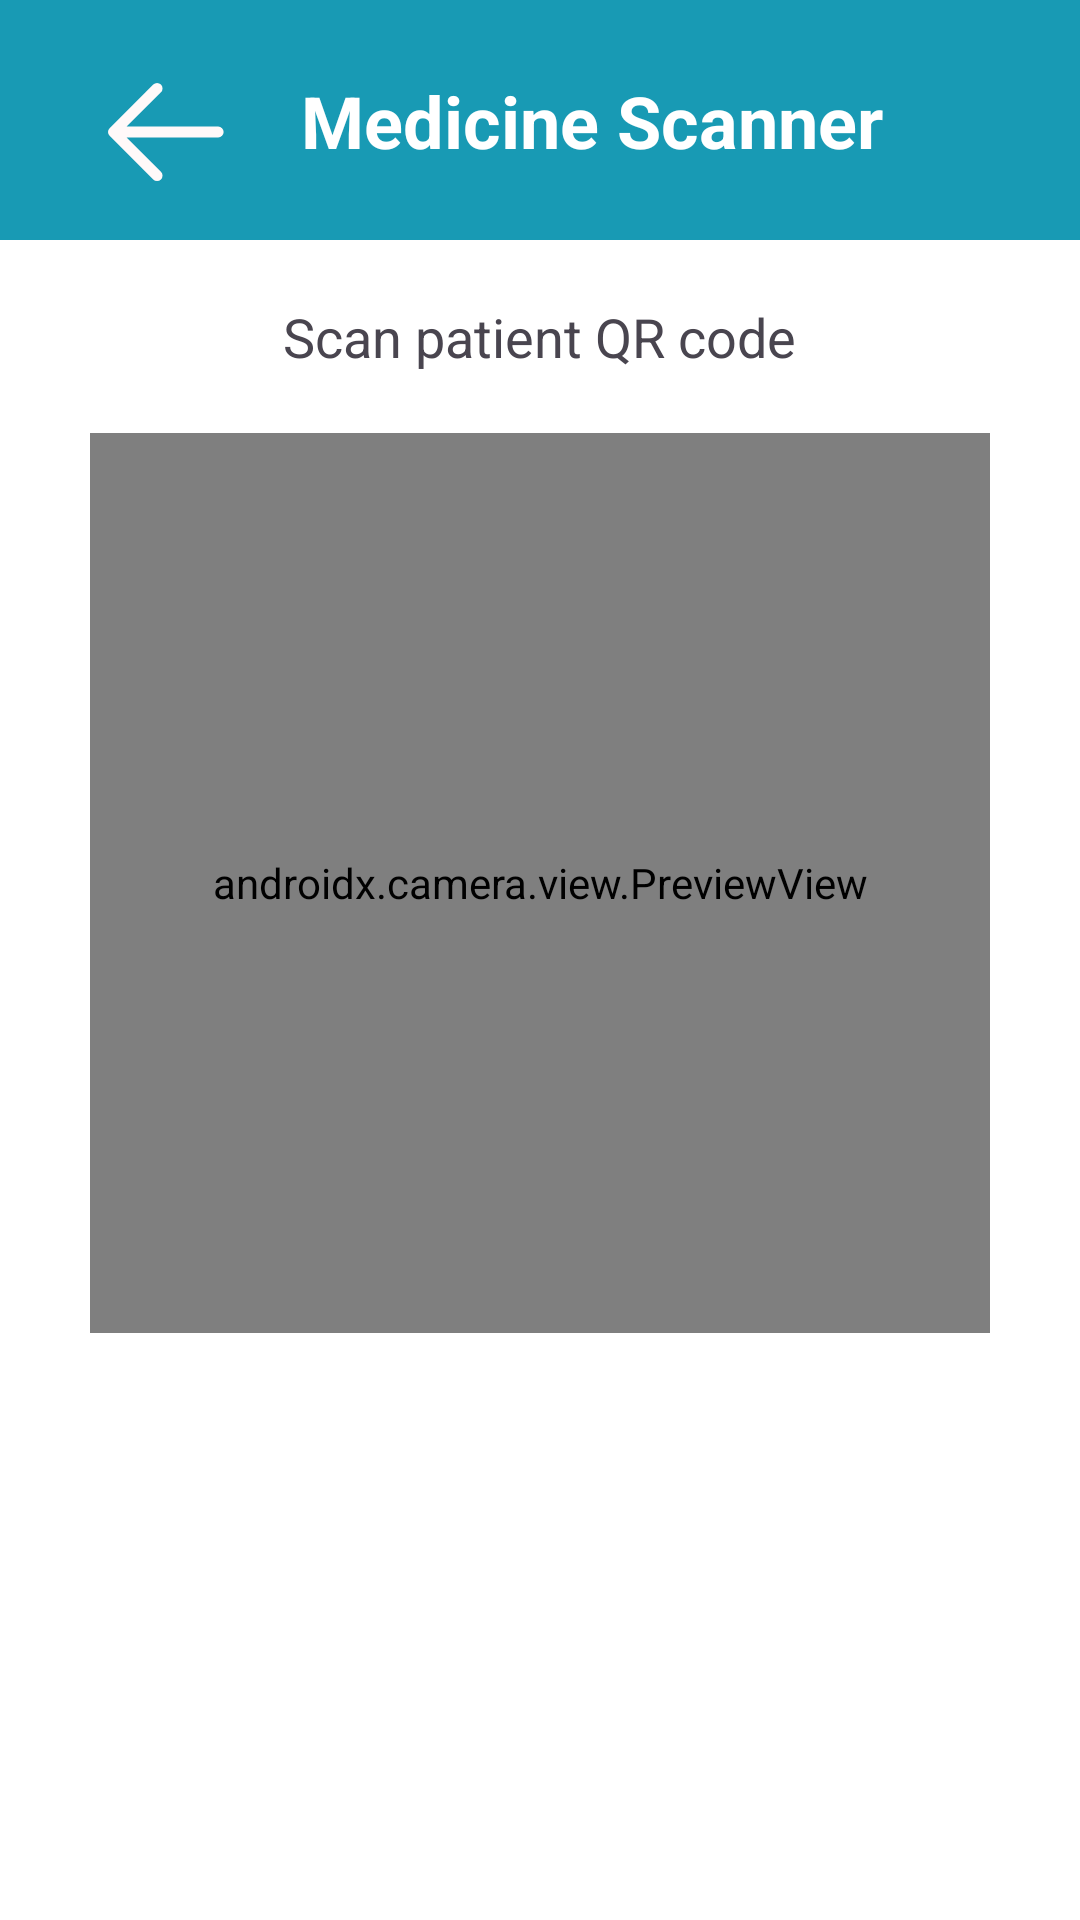

Icon click points for this 1080×1920 phone screenshot, format (x,y):
arrow: (166,132)
